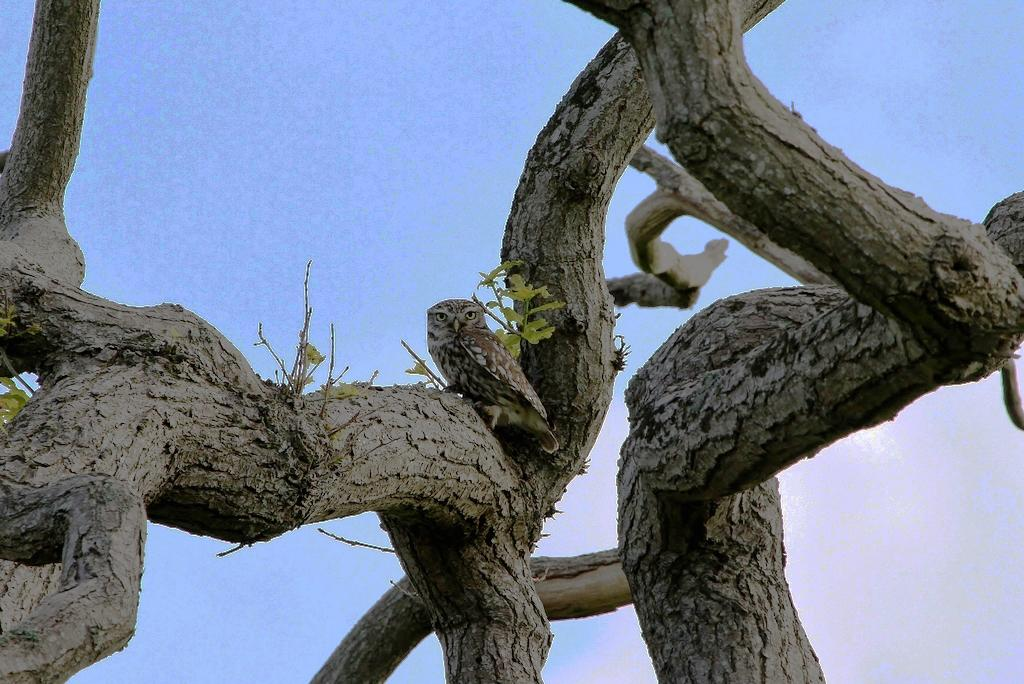Owl: (427, 296, 559, 457)
